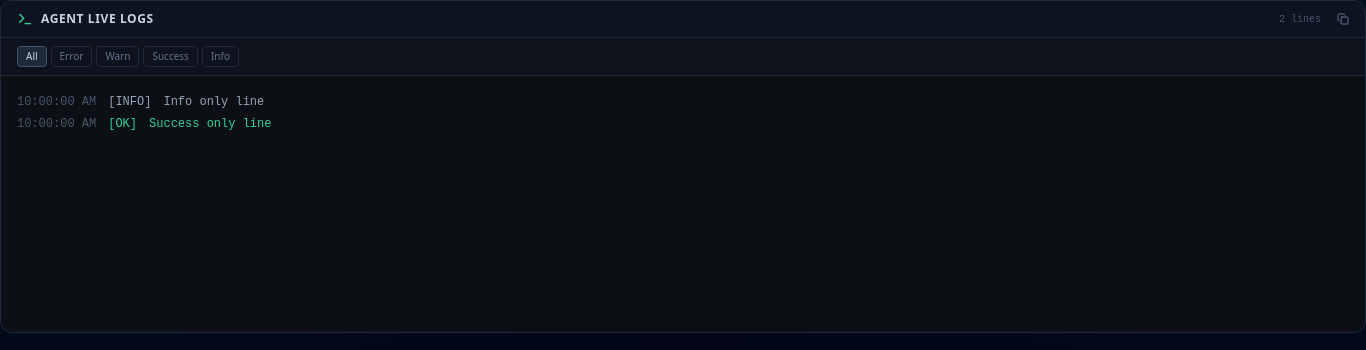
Test: AgentLogsPanel — level filter › renders no log rows when selected level has no matching logs
Step 1. Click the button "warn" → (118, 56), box [96,46,139,67]
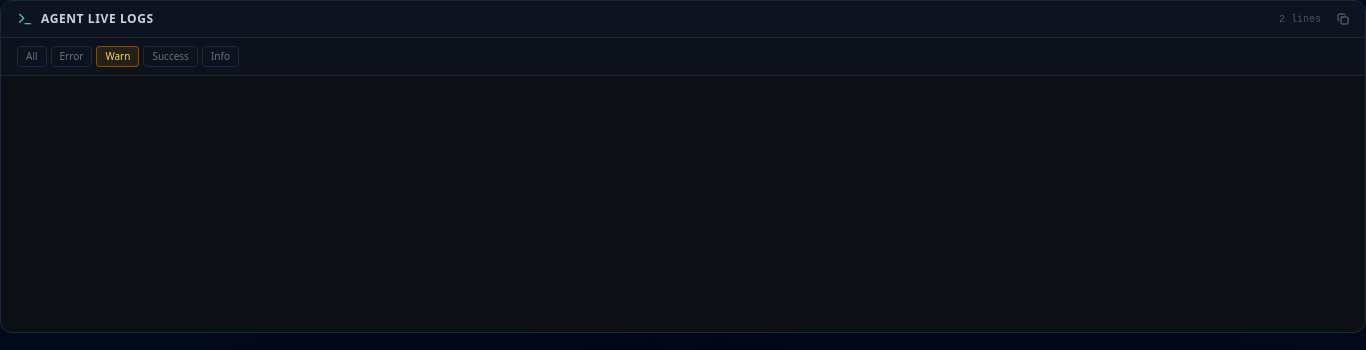
Now the text "Info only line" is gone
Now the text "Success only line" is gone
